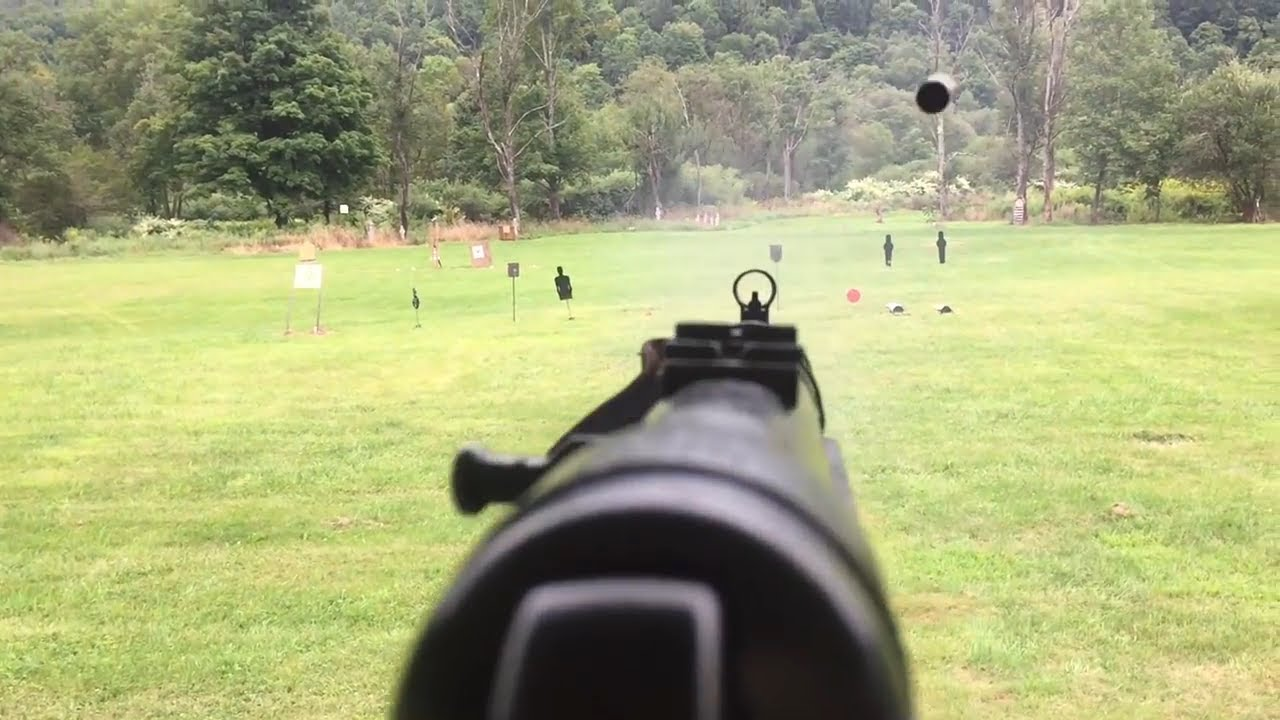Gun: (572, 242, 904, 637)
